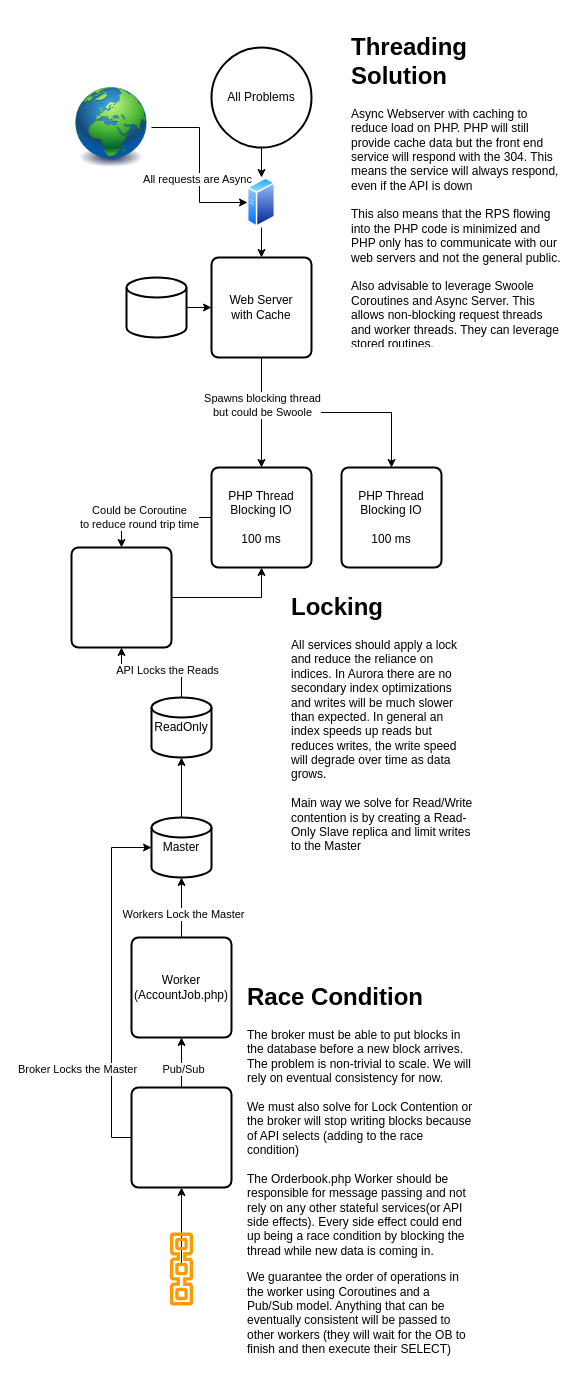
Some shapes in this 583 by 1374 pixel diagram are drawn without their labels. The centre of each missing label's shape, as x and y in pixels:
"Broker (Orderbook.php)" belongs at [181,1137].
"memcache" belongs at [156,307].
"Side Effect (get info if not exist) 100 ms" belongs at [121,597].
